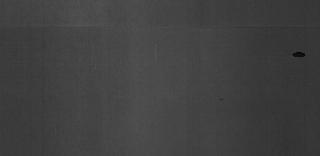punching hole: (291, 51, 307, 59)
welding line: (2, 23, 318, 33)
